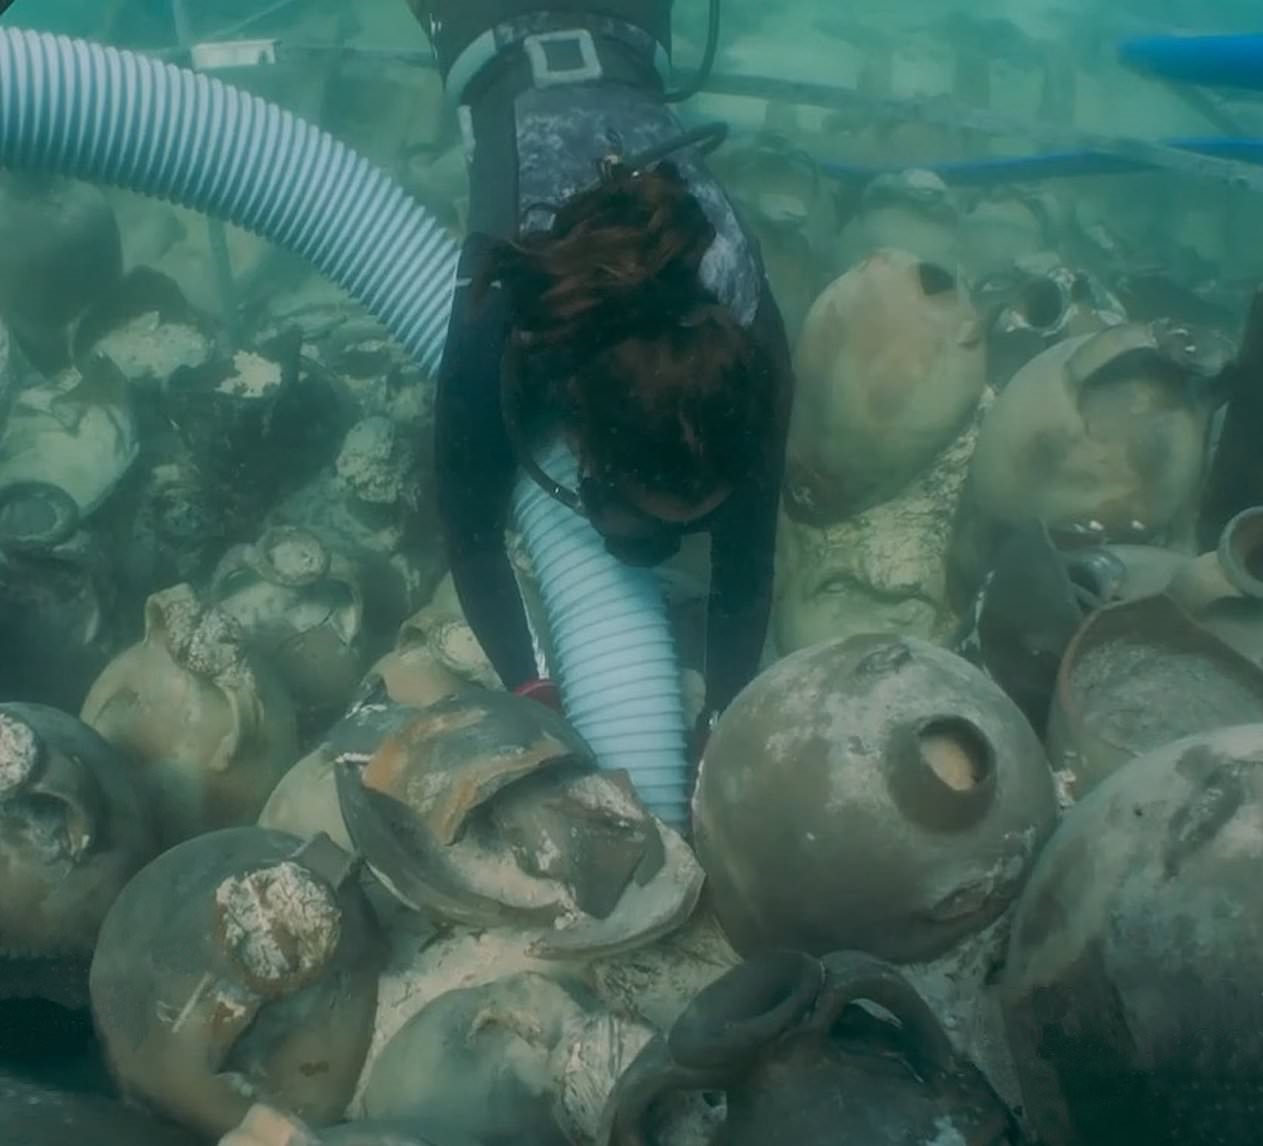amphora: (669, 628, 1080, 966), (987, 696, 1263, 1146), (955, 304, 1232, 632), (86, 822, 392, 1116), (618, 935, 1020, 1146), (1047, 475, 1263, 837), (779, 239, 988, 537), (83, 585, 300, 820), (363, 973, 654, 1146), (3, 685, 153, 980), (206, 519, 377, 703), (287, 431, 454, 618), (780, 516, 970, 668), (1, 476, 134, 690), (834, 155, 971, 311), (723, 134, 837, 307), (119, 461, 242, 600), (993, 255, 1125, 365)
